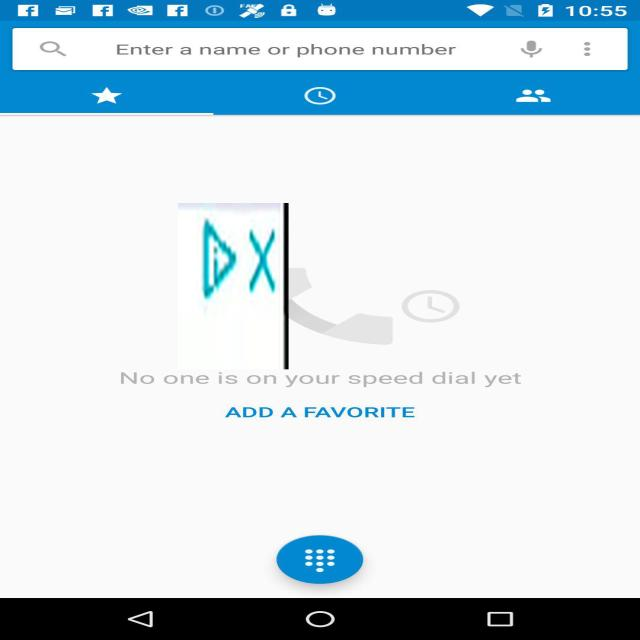sneaking: (178, 203, 288, 369)
